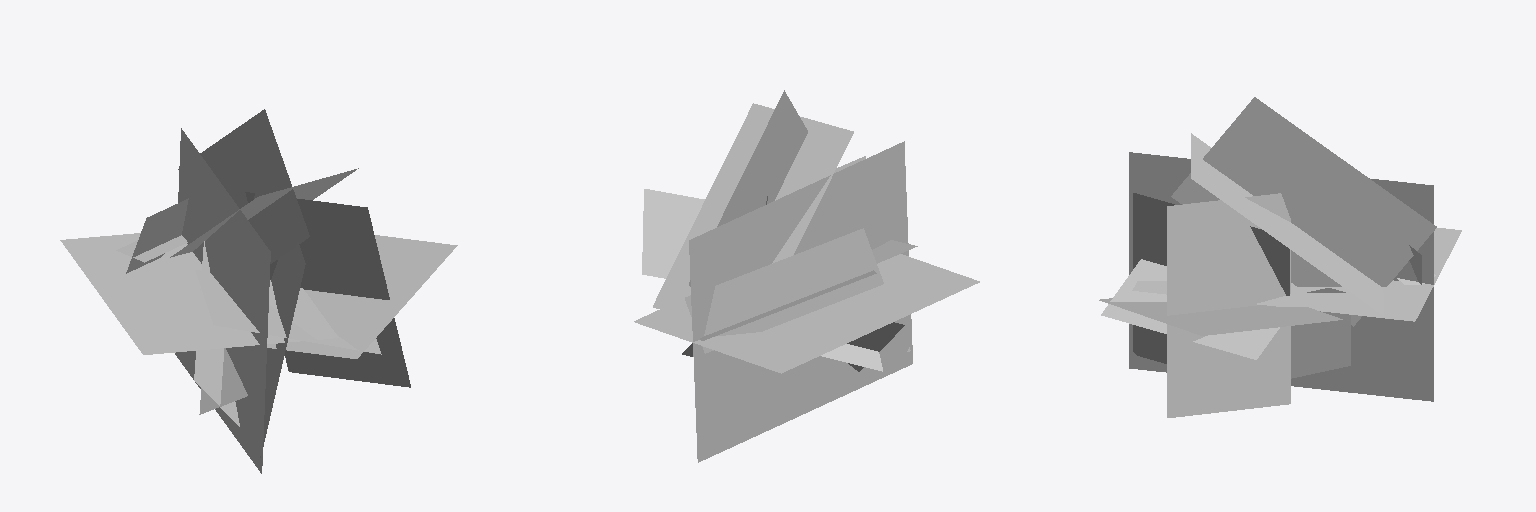
File: billboards_lod1.obj
The picture shows the model from 3 angles: view 1: azimuth 30°, elevation 25°; view 2: azimuth 150°, elevation 25°; view 3: azimuth 270°, elevation 25°; orthographic projection.
Size of the model in its own units: 7.12 by 6.57 by 6.91.